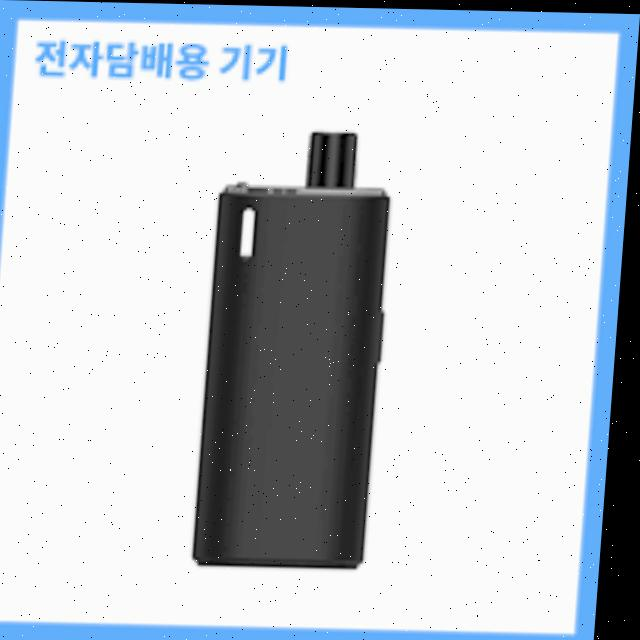vape: (200, 128, 400, 569)
